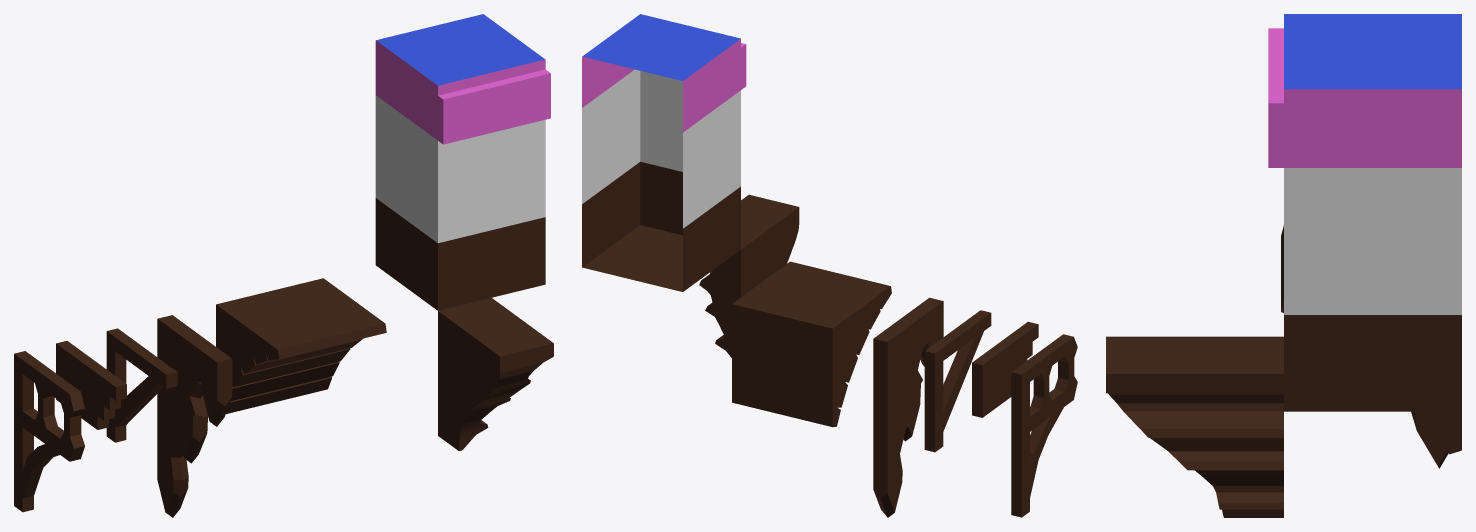
File: PALOMERAS.fbx
3 renders of one model, left to right at view 1: azimuth 30°, elevation 25°; view 2: azimuth 150°, elevation 25°; view 3: azimuth 270°, elevation 25°, orthographic. The views are drawn at different scales.
Parts seen in each view (by area): view 1: balcon, base cubierta, base facha, base ornamentada, base elegante, base cencilla, base reforzada; view 2: balcon, base cubierta, base ornamentada, base elegante, base facha, base cencilla, base reforzada; view 3: balcon, base facha, base cubierta, base ornamentada.
Part boxes in pixels (x1,y1,x2,y2): balcon: [375, 14, 550, 310]; base cubierta: [216, 278, 386, 413]; base facha: [438, 298, 553, 450]; base ornamentada: [157, 315, 232, 517]; base elegante: [14, 351, 84, 512]; base cencilla: [106, 328, 177, 442]; base reforzada: [56, 341, 126, 429]; balcon: [582, 14, 746, 291]; base cubierta: [732, 261, 891, 427]; base ornamentada: [873, 297, 943, 517]; base elegante: [1011, 334, 1077, 517]; base facha: [699, 194, 799, 357]; base cencilla: [924, 310, 991, 452]; base reforzada: [972, 321, 1038, 417]; balcon: [1268, 14, 1461, 411]; base facha: [1106, 336, 1283, 517]; base cubierta: [1281, 225, 1461, 454]; base ornamentada: [1411, 411, 1448, 468].
Size of the model in its own units: 218 by 187 by 100.
